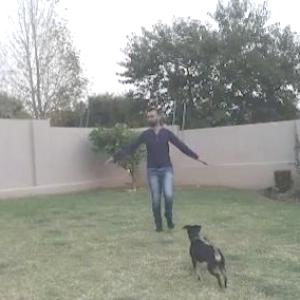land: (82, 100, 214, 259)
